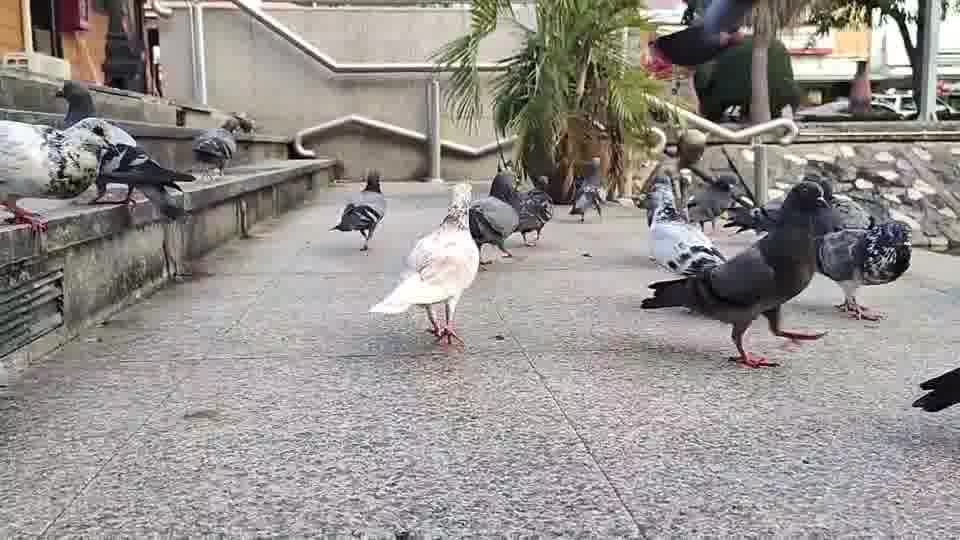Pigeon: (639, 178, 837, 368), (367, 181, 482, 346), (814, 214, 913, 321), (0, 117, 102, 200), (644, 174, 727, 276), (91, 141, 196, 206), (488, 171, 553, 247), (327, 169, 385, 251), (468, 194, 520, 269), (191, 128, 236, 180), (911, 365, 959, 412), (567, 176, 603, 223), (218, 111, 257, 135)
